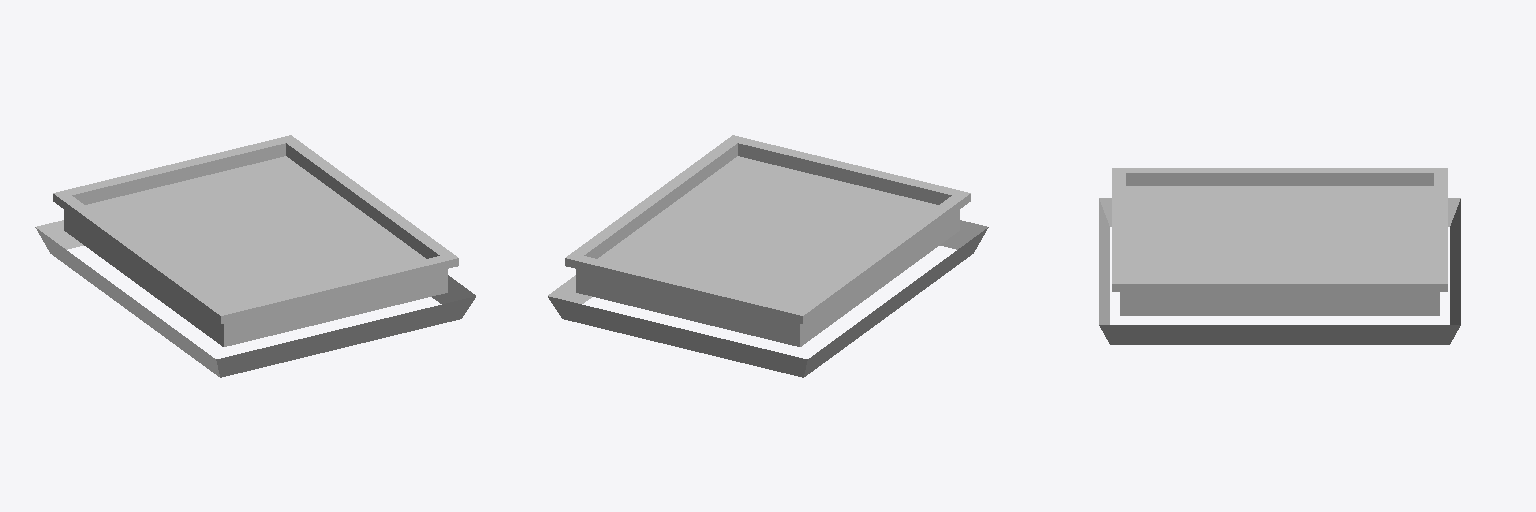
File: city_cancha_edificio23.obj
3 views of the same model, side by side, from view 1: azimuth 30°, elevation 25°; view 2: azimuth 150°, elevation 25°; view 3: azimuth 270°, elevation 25° (orthographic).
Parts seen in each view (by area): view 1: polySurface139.004; view 2: polySurface139.004; view 3: polySurface139.004.
Part boxes in pixels (bbox=[...]): polySurface139.004: bbox=[35, 135, 475, 377]; polySurface139.004: bbox=[548, 135, 988, 377]; polySurface139.004: bbox=[1099, 168, 1460, 344].
Size of the model in its own units: 7.17 by 1.6 by 8.63.